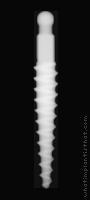3M ESPE: (30, 11, 61, 188)
